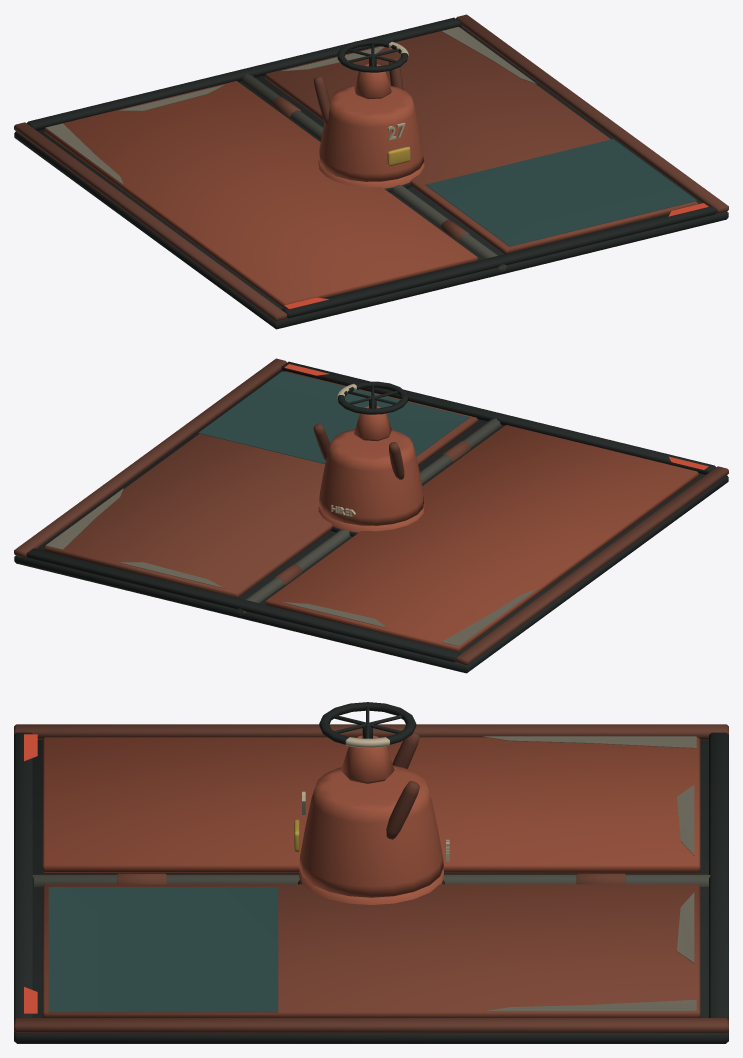
Rendered from enemy_ramp_flipper.glb.
3 renders of one model, top to bottom at view 1: azimuth 30°, elevation 25°; view 2: azimuth 150°, elevation 25°; view 3: azimuth 270°, elevation 25°, orthographic. The views are drawn at different scales.
Visible parts, largest first — view 1: RampPlate, RampBody; view 2: RampPlate, RampBody; view 3: RampPlate, RampBody.
Boxes of the visible parts, x1,y1,x2,y2 form: RampPlate: (14,14,728,329); RampBody: (313,39,424,192); RampPlate: (14,358,728,673); RampBody: (313,381,424,536); RampPlate: (14,724,728,1043); RampBody: (294,702,449,904).
Bounding box in the file's own units: 5.76 × 2.53 × 5.76.
